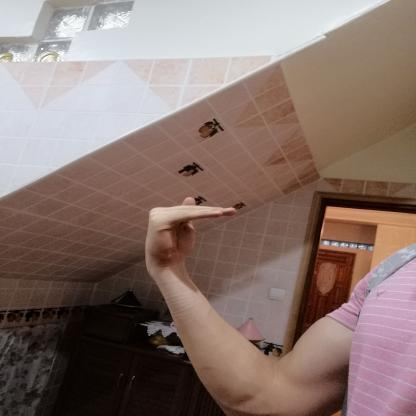KHAA: (133, 189, 250, 281)
